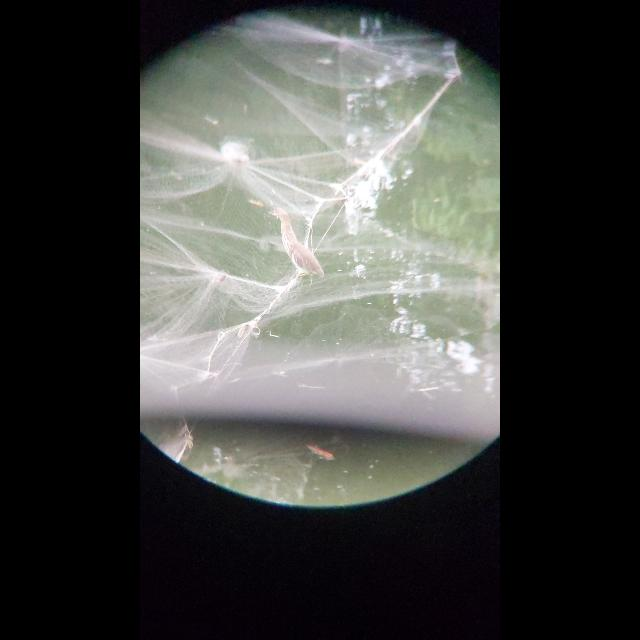heron: (259, 200, 329, 280)
